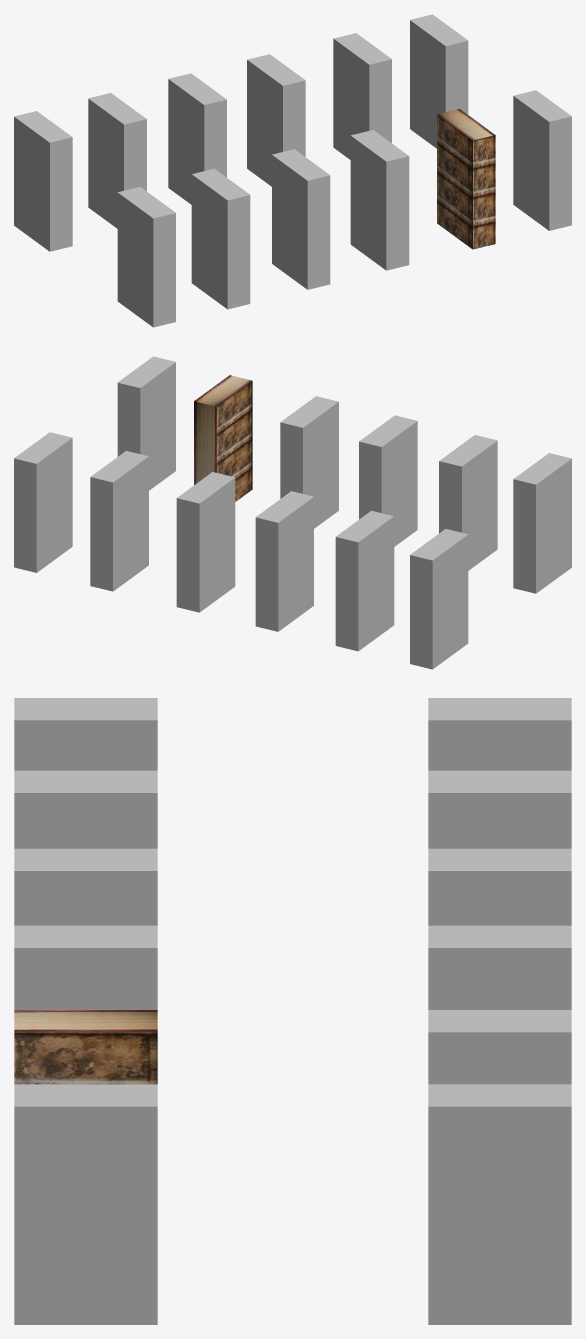
The model's file is Libro.dae.
3 renders of one model, top to bottom at view 1: azimuth 30°, elevation 25°; view 2: azimuth 150°, elevation 25°; view 3: azimuth 270°, elevation 25°, orthographic. The views are drawn at different scales.
Visible parts, largest first — view 1: Libro azul mal estado, Libro extra, Libro colores 2, Libro Oscuro, Libro rojo 2, Libro Negro, Libro rojo 2.001, Libro Marino, Libro colores, Libro azul, Libro Amarillo, Libro Rojo; view 2: Libro azul, Libro Marino, Libro rojo 2.001, Libro colores, Libro Rojo, Libro rojo 2, Libro Amarillo, Libro extra, Libro colores 2, Libro azul mal estado, Libro Negro, Libro Oscuro; view 3: Libro colores 2, Libro colores, Libro azul mal estado, Libro azul, Libro extra, Libro Marino, Libro Negro, Libro Amarillo, Libro Oscuro, Libro Rojo, Libro rojo 2.001, Libro rojo 2.
Part boxes in pixels (x1,y1,x2,y2): Libro azul mal estado: [350, 130, 409, 270]; Libro extra: [191, 168, 250, 309]; Libro colores 2: [513, 90, 571, 230]; Libro Oscuro: [437, 109, 495, 249]; Libro rojo 2: [14, 111, 72, 251]; Libro Negro: [272, 149, 330, 289]; Libro rojo 2.001: [117, 187, 175, 327]; Libro Marino: [88, 93, 146, 228]; Libro colores: [410, 14, 468, 148]; Libro azul: [247, 54, 305, 186]; Libro Amarillo: [168, 73, 226, 204]; Libro Rojo: [333, 33, 391, 159]; Libro azul: [176, 472, 235, 612]; Libro Marino: [335, 510, 394, 651]; Libro rojo 2.001: [513, 453, 571, 593]; Libro colores: [14, 432, 72, 572]; Libro Rojo: [90, 451, 148, 591]; Libro rojo 2: [410, 529, 468, 669]; Libro Amarillo: [255, 491, 313, 631]; Libro extra: [439, 435, 497, 570]; Libro colores 2: [117, 356, 175, 490]; Libro azul mal estado: [280, 396, 338, 528]; Libro Negro: [359, 415, 417, 546]; Libro Oscuro: [194, 375, 252, 501]; Libro colores 2: [14, 1084, 157, 1324]; Libro colores: [428, 1084, 571, 1324]; Libro azul mal estado: [14, 925, 157, 1009]; Libro azul: [428, 925, 571, 1009]; Libro extra: [14, 770, 157, 848]; Libro Marino: [428, 770, 571, 848]; Libro Negro: [14, 848, 157, 925]; Libro Amarillo: [428, 848, 571, 925]; Libro Oscuro: [14, 1010, 157, 1084]; Libro Rojo: [428, 1010, 571, 1084]; Libro rojo 2.001: [14, 698, 157, 770]; Libro rojo 2: [428, 698, 571, 770].
Size of the model in its own units: 8.04 by 4.63 by 2.
